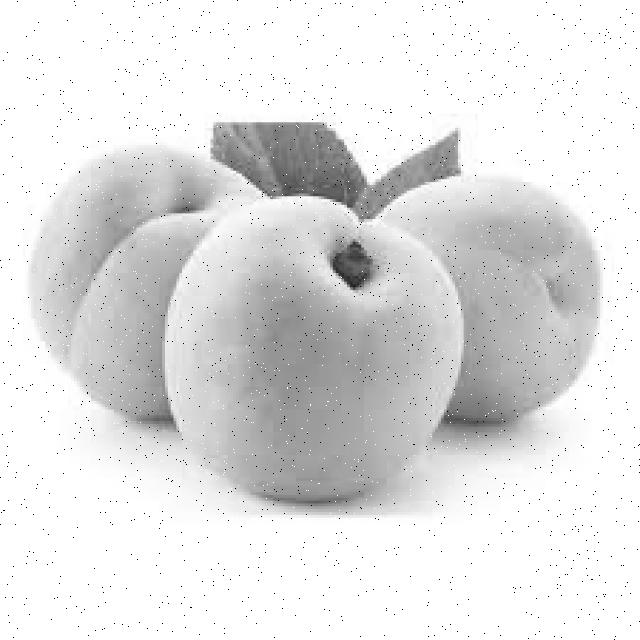kayisi: (28, 130, 604, 504)
kayisi_yapragi: (183, 92, 491, 216)
